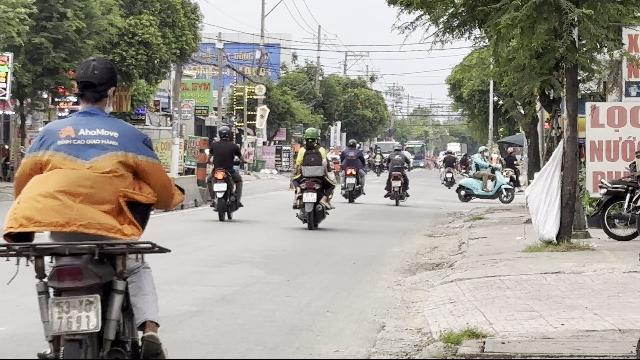licenseplate: (47, 295, 99, 331)
motorcyclist: (1, 53, 186, 358)
nohelmet: (71, 55, 121, 111)
